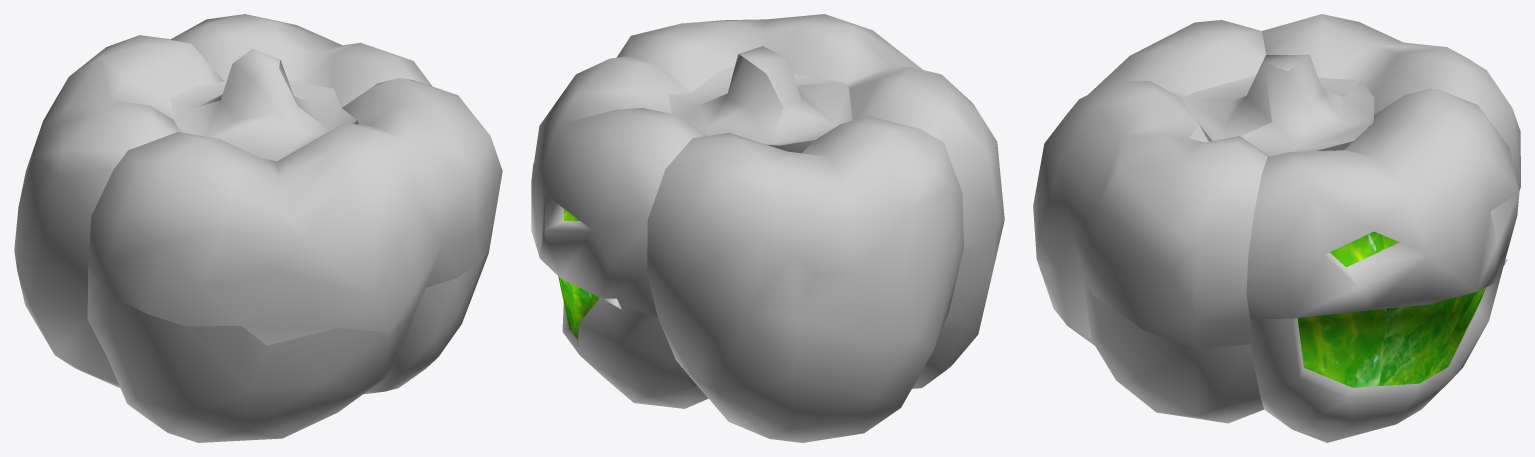
Rendered from pumpkin_1.fbx.
3 renders of one model, left to right at view 1: azimuth 30°, elevation 25°; view 2: azimuth 150°, elevation 25°; view 3: azimuth 270°, elevation 25°, orthographic. The views are drawn at different scales.
Parts seen in each view (by area): view 1: mesh_39; view 2: mesh_39; view 3: mesh_39.
Boxes of the visible parts, x1,y1,x2,y2 form: mesh_39: (14,14,502,442); mesh_39: (531,14,1004,442); mesh_39: (1033,14,1520,442).
Bounding box in the file's own units: 51.96 × 41.29 × 53.02.
